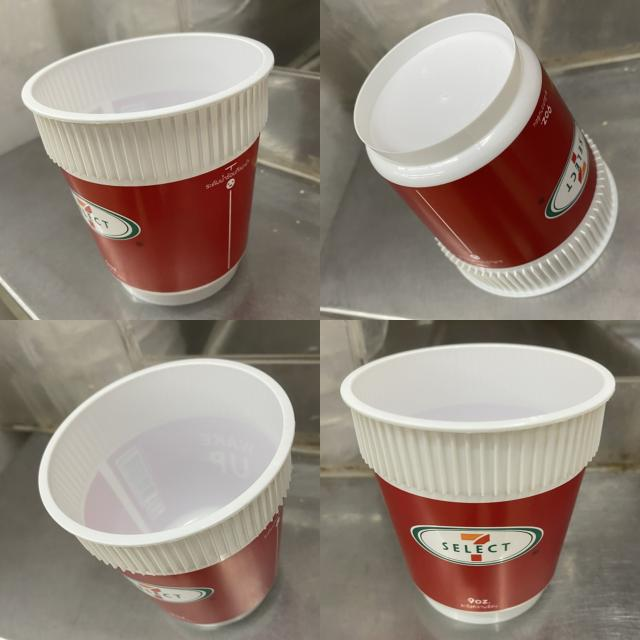Single-Use-Plastic: (341, 344, 615, 624), (354, 14, 618, 296), (21, 32, 274, 305), (39, 359, 295, 626)
